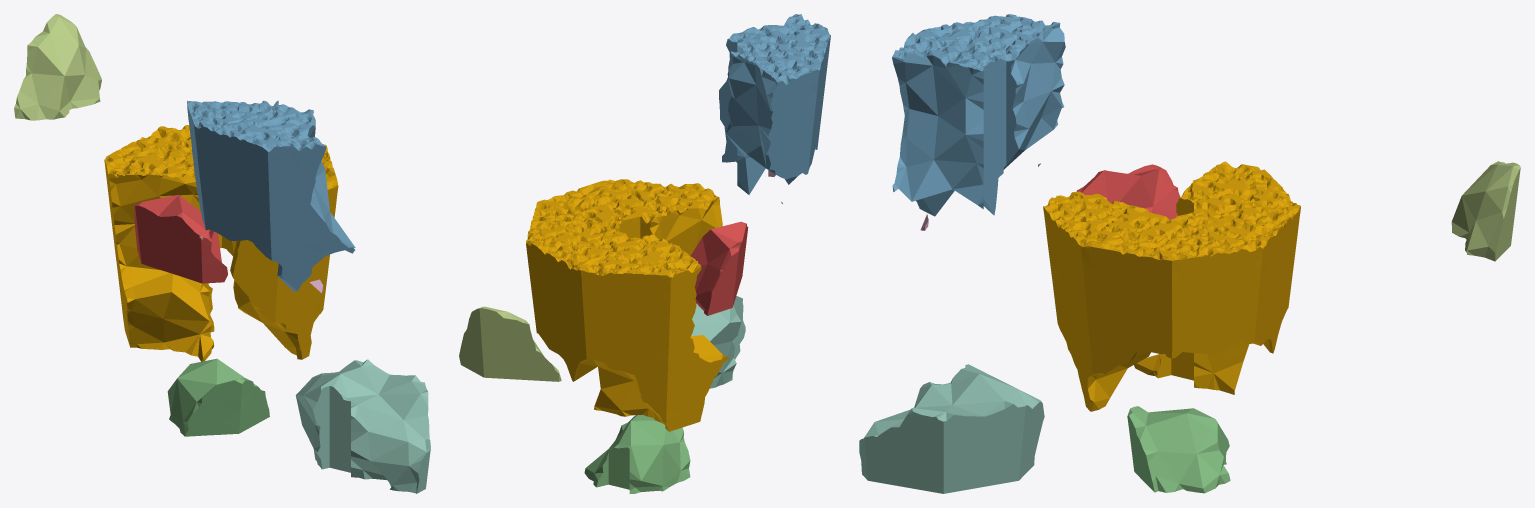
The model's file is mode_9_8pcs_transformed.glb.
3 renders of one model, left to right at view 1: azimuth 30°, elevation 25°; view 2: azimuth 150°, elevation 25°; view 3: azimuth 270°, elevation 25°, orthographic. The views are drawn at different scales.
Parts seen in each view (by area): view 1: piece_0.obj, piece_2.obj, piece_4.obj, piece_5.obj, piece_3.obj, piece_1.obj; view 2: piece_0.obj, piece_2.obj, piece_3.obj, piece_5.obj, piece_1.obj, piece_4.obj; view 3: piece_0.obj, piece_2.obj, piece_4.obj, piece_3.obj, piece_5.obj, piece_1.obj.
Boxes of the visible parts, left/top/right/bottom form: piece_0.obj: left=104, top=125, right=338, bottom=361; piece_2.obj: left=187, top=100, right=355, bottom=291; piece_4.obj: left=295, top=359, right=430, bottom=493; piece_5.obj: left=14, top=14, right=101, bottom=120; piece_3.obj: left=167, top=358, right=269, bottom=436; piece_1.obj: left=134, top=195, right=227, bottom=283; piece_0.obj: left=526, top=179, right=729, bottom=431; piece_2.obj: left=719, top=14, right=830, bottom=194; piece_3.obj: left=584, top=414, right=690, bottom=493; piece_5.obj: left=459, top=306, right=561, bottom=381; piece_1.obj: left=690, top=221, right=748, bottom=315; piece_4.obj: left=691, top=296, right=745, bottom=388; piece_0.obj: left=1043, top=161, right=1300, bottom=411; piece_2.obj: left=892, top=14, right=1065, bottom=216; piece_4.obj: left=859, top=364, right=1044, bottom=493; piece_3.obj: left=1127, top=406, right=1230, bottom=493; piece_5.obj: left=1451, top=161, right=1520, bottom=261; piece_1.obj: left=1076, top=164, right=1180, bottom=219.
Bounding box in the file's own units: 0.999 × 1.73 × 2.56.
